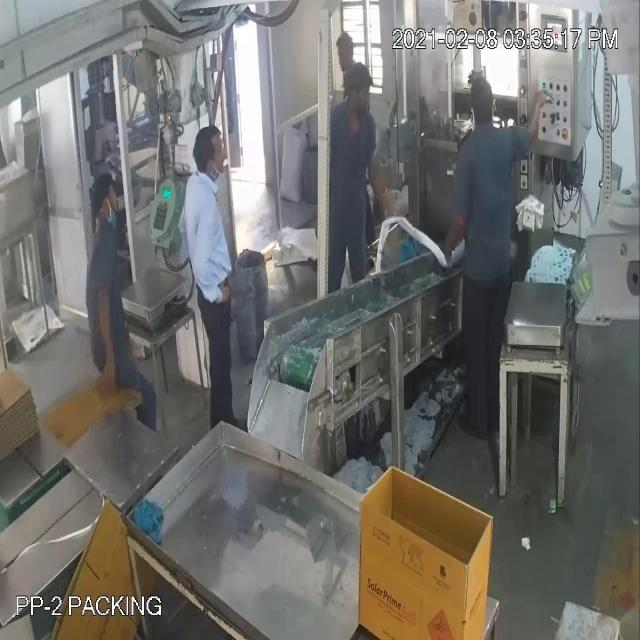No_Gloves: (32, 72, 534, 333)
